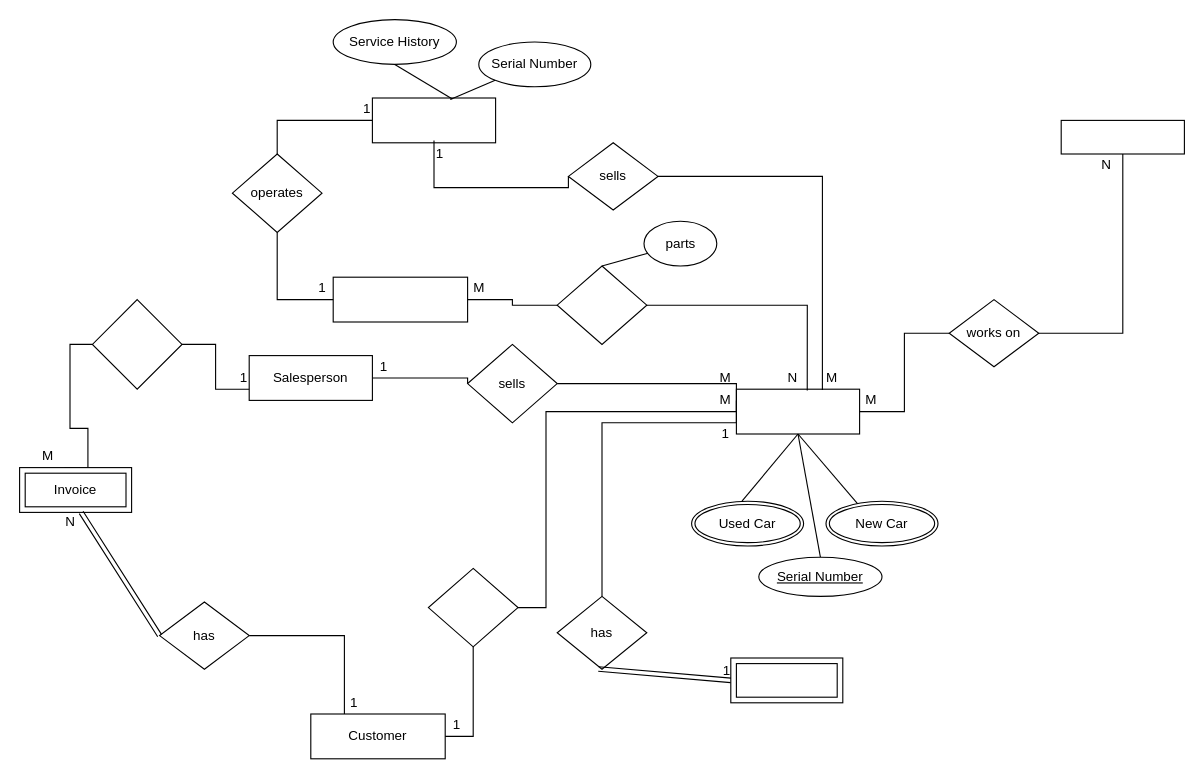
The diagram is 1204 pixels wide and 778 high, and some of its shapes have lost their labels. Here are the shapes that lost their labels. From the top down, the centre of each, then its label:
the point at 433,120: Car dealership
the point at 1122,136: Mechanic
the point at 400,299: Service facility
the point at 601,304: gets
the point at 136,343: writes
the point at 797,411: Car
the point at 472,607: buys
the point at 786,680: Service ticket
